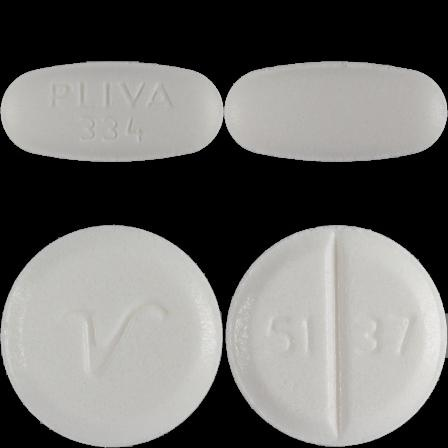66116-601: (0, 0, 224, 224)
